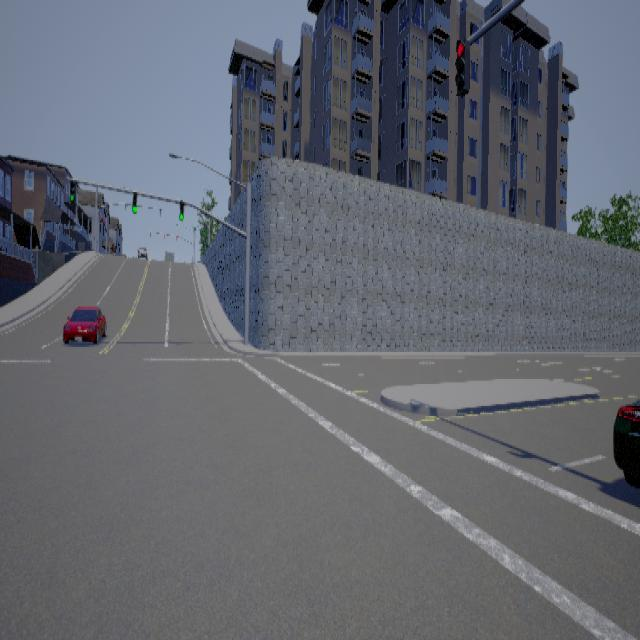green_light: (69, 179, 75, 202), (178, 198, 183, 220), (131, 190, 136, 212)
red_light: (454, 37, 469, 96)
traffic_light: (201, 224, 206, 236)
vehicle: (612, 397, 639, 487), (62, 305, 106, 343)
